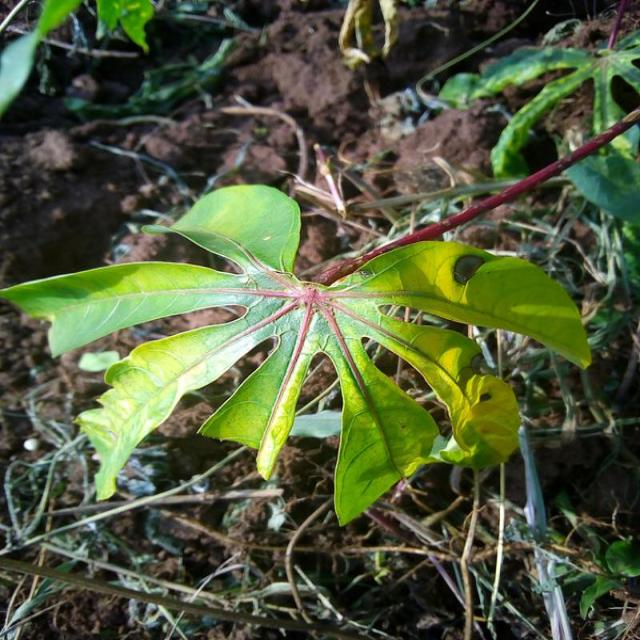cassava leaf: (1, 180, 591, 527)
